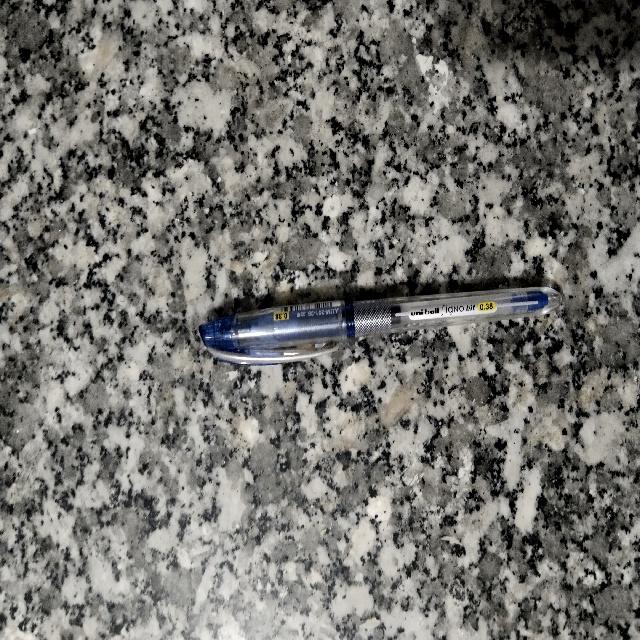pen: (199, 287, 560, 364)
